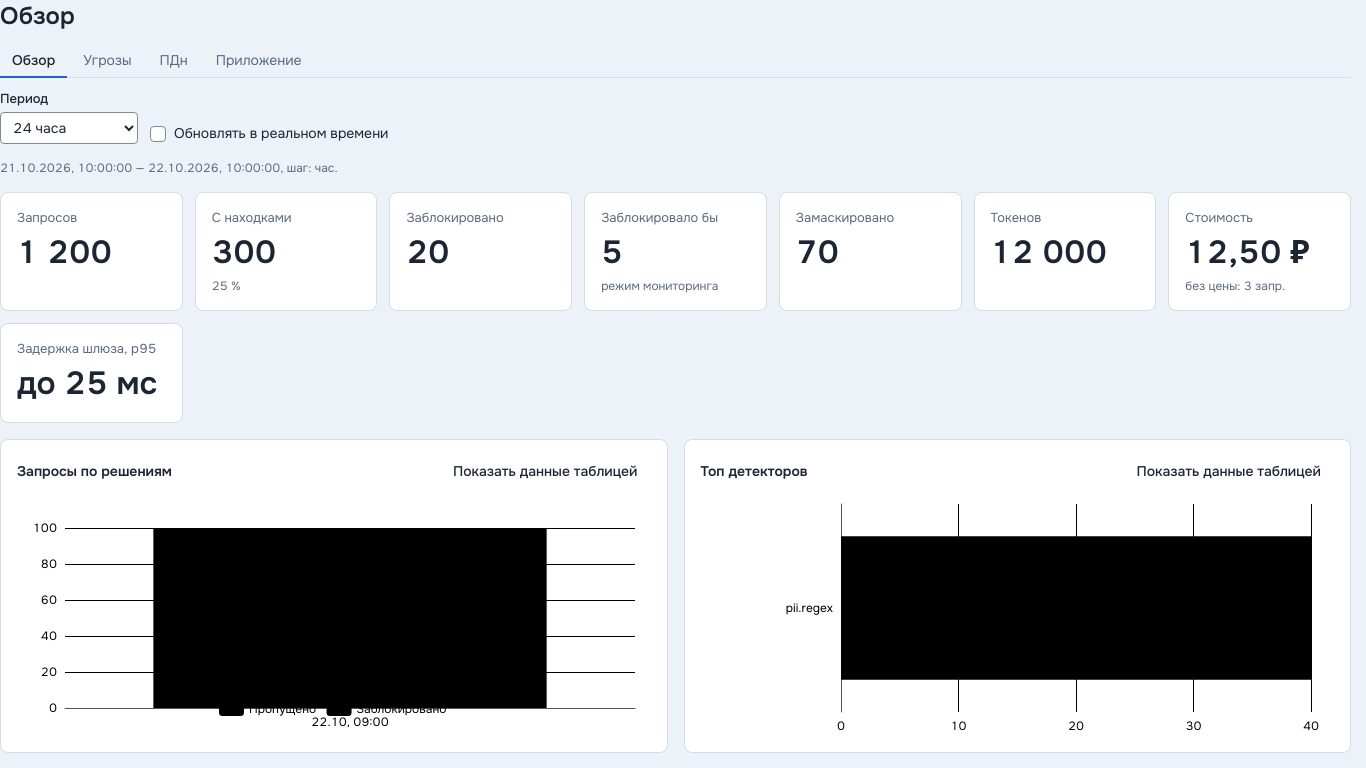
Scenario: экран «Обзор» › произвольный период: начало позже конца не отправляется
Expected: the text "1 200" is shown, [17,232,112,273]
Select "Произвольный" in the dropdown labelled "Период" at point(69, 128), box [0,112,138,144]
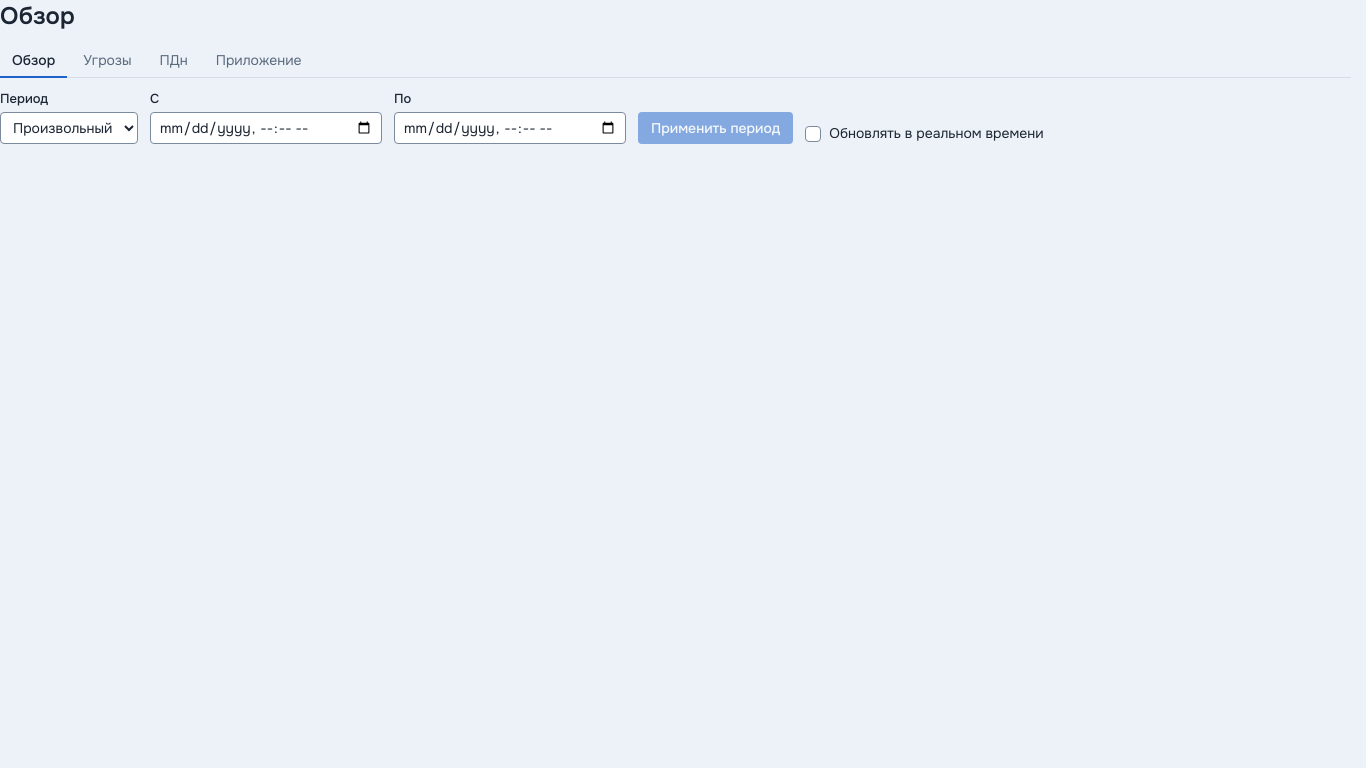
Type "2026-10-21T12:00" into the field labelled "С" at point(266, 128), box [150,112,382,144]
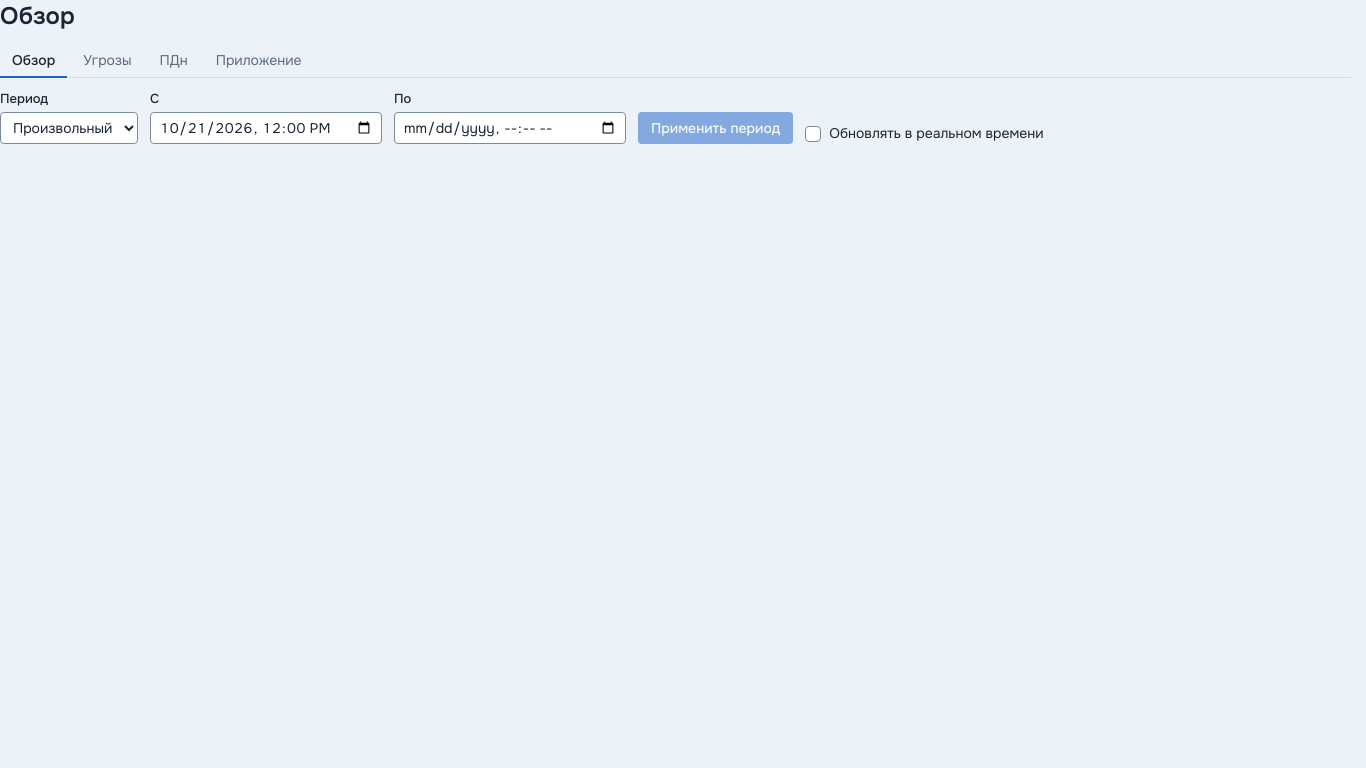
Type "2026-10-21T10:00" into the field labelled "По" at point(510, 128), box [394,112,626,144]
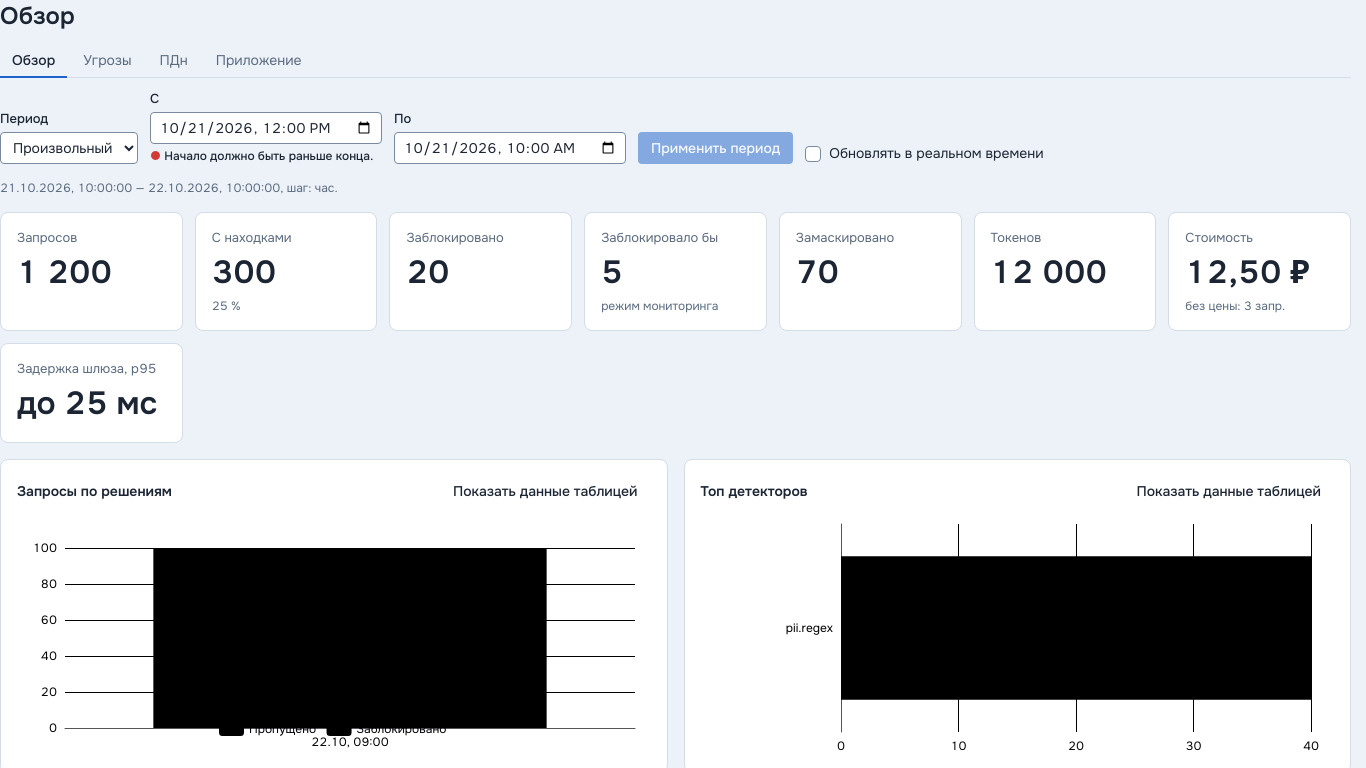
Result: the button "Применить период" is disabled at [638,132,793,164]
Result: the text "Начало должно быть раньше конца." is shown at [164,148,373,164]
